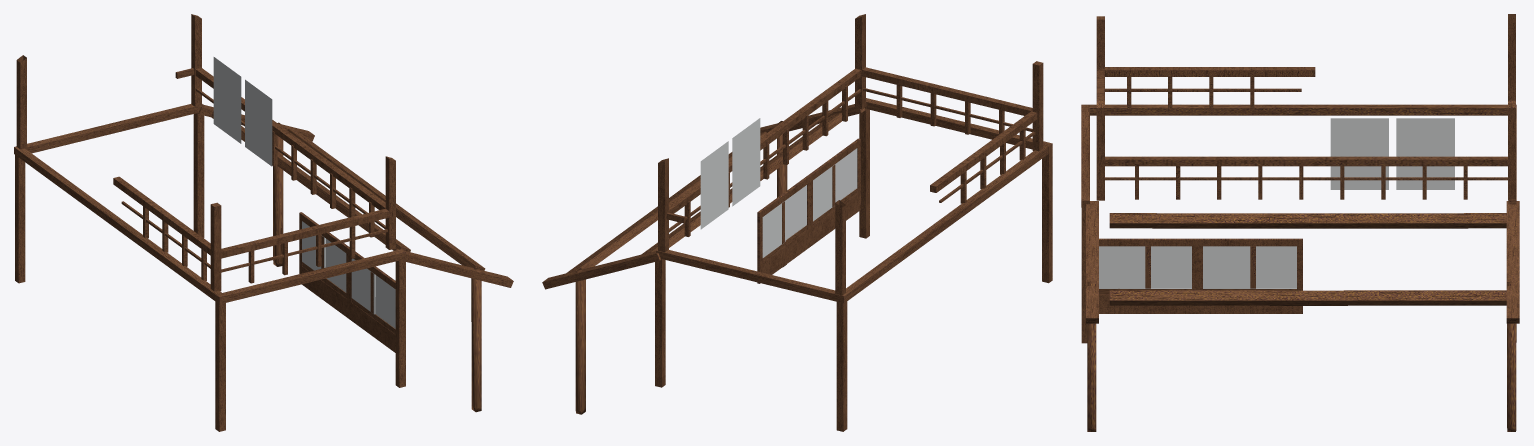
File: madeiras_casaPJ_TEXTURIZADA.fbx
3 renders of one model, left to right at view 1: azimuth 30°, elevation 25°; view 2: azimuth 150°, elevation 25°; view 3: azimuth 270°, elevation 25°, orthographic. The views are drawn at different scales.
Visible parts, largest first — view 1: Cube.102; view 2: Cube.102; view 3: Cube.102.
Boxes of the visible parts, x1,y1,x2,y2 form: Cube.102: [14, 14, 513, 431]; Cube.102: [542, 14, 1052, 431]; Cube.102: [1081, 14, 1519, 431].
Bounding box in the file's own units: 897 × 781 × 1086.
Materials: 2 (2 with a texture image).
